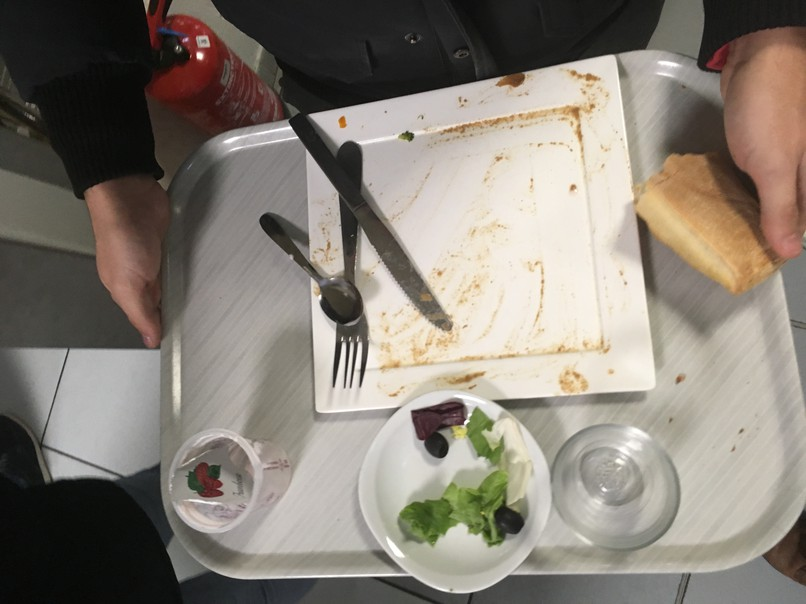cup: (548, 407, 714, 561)
cutlery: (286, 110, 455, 328), (328, 137, 377, 404), (260, 209, 366, 322)
orga: (649, 145, 776, 288), (406, 407, 528, 552)
trash: (162, 433, 293, 527)
